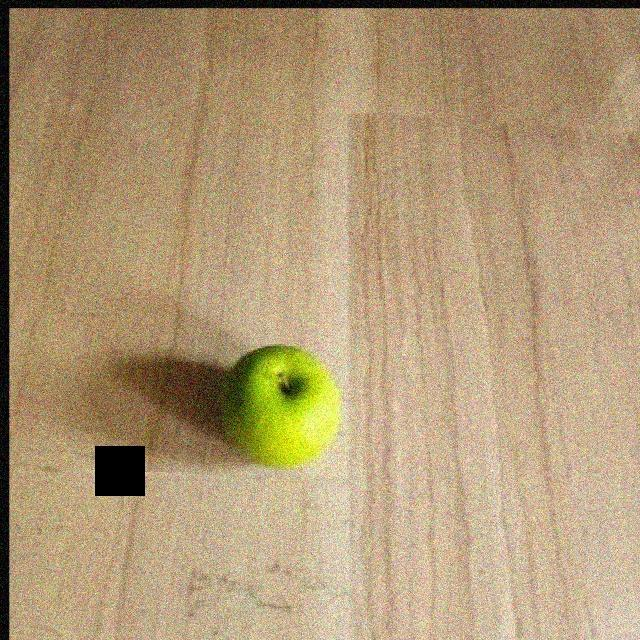green apple: (219, 338, 342, 464)
